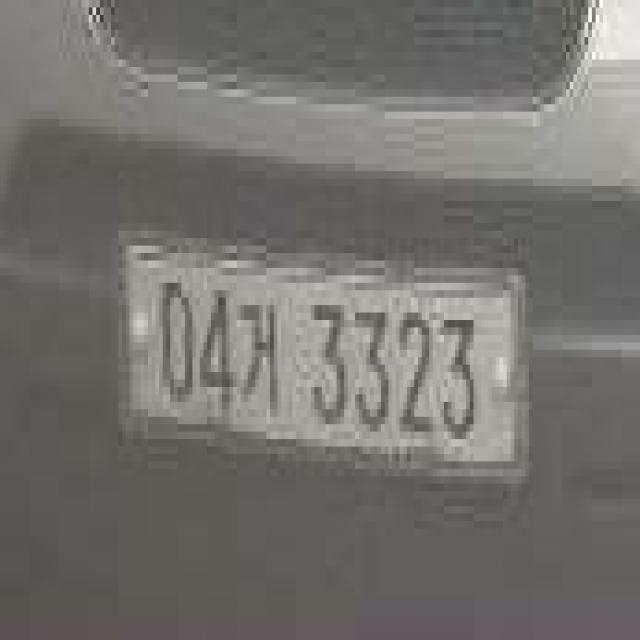illegal_plate: (116, 238, 532, 507)
